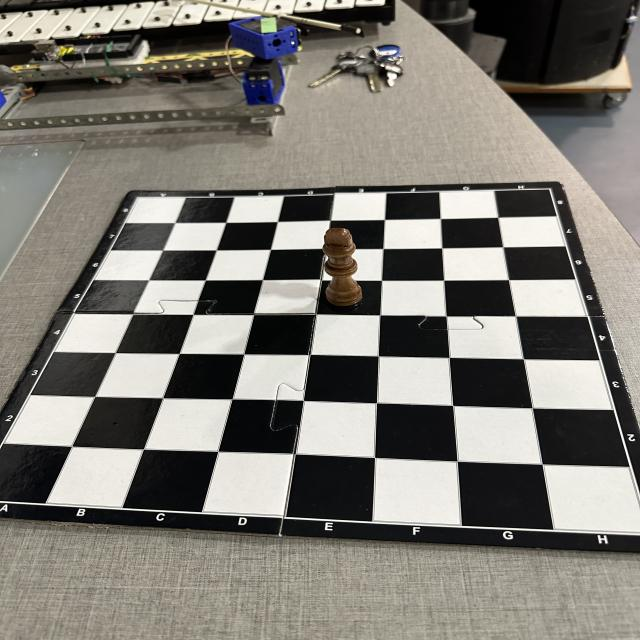Black-King: (322, 227, 363, 306), (128, 188, 147, 202)
